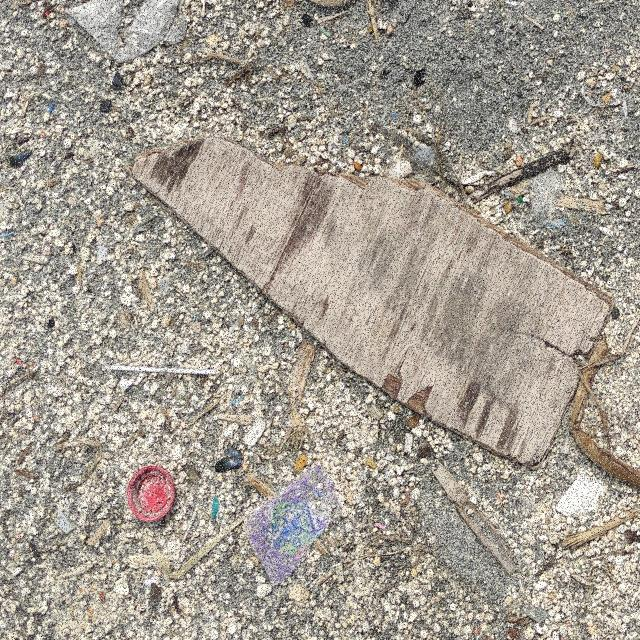plastic_waste: (244, 468, 335, 591), (128, 467, 176, 524)
wood_waste: (132, 136, 614, 472)
